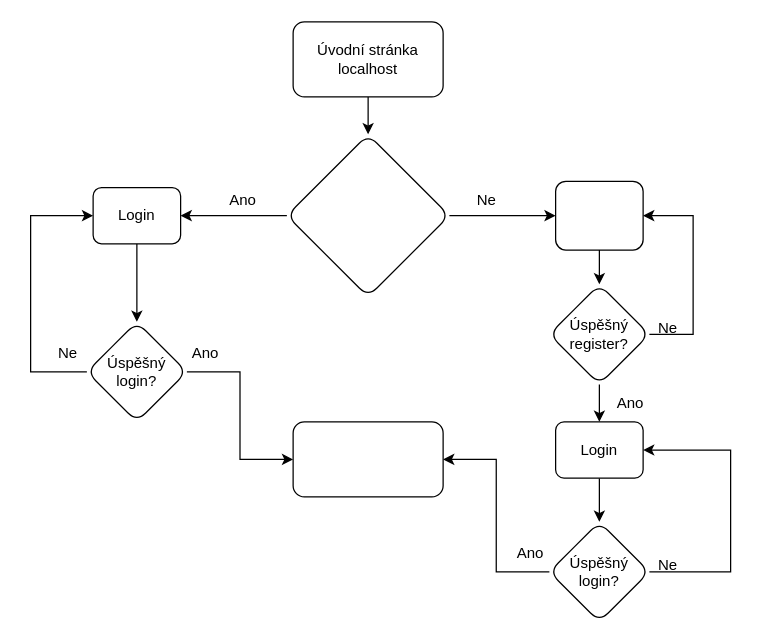
The diagram is 763 pixels wide and 644 high, and some of its shapes have lost their labels. The box of each missing label's shape, as (x1, y1, x2, y2) in pixels:
Dashboard stránka pro práci se soubory: (292, 421, 443, 497)
Register: (554, 180, 643, 250)
Zaregistrovaný uživatel?: (286, 133, 449, 297)
